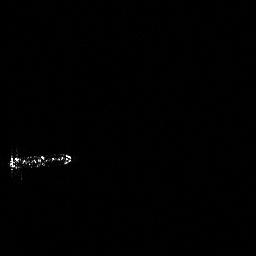ship: (4, 149, 74, 178)
